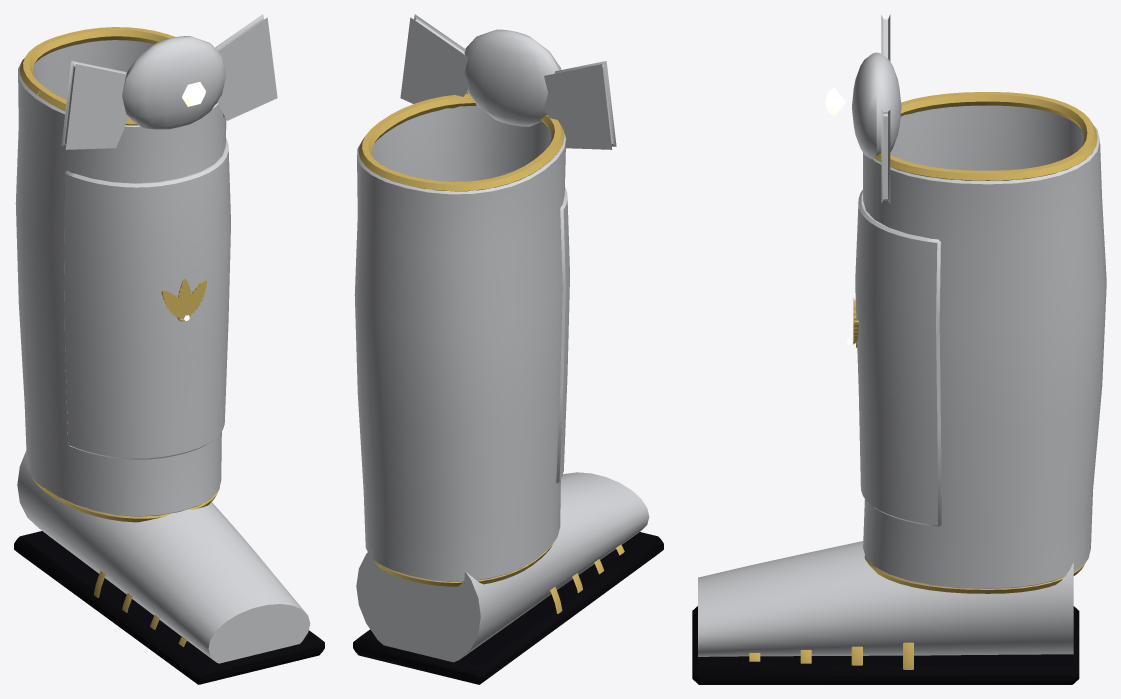
Rendered from esc_final_dawn_executor_boots_R.glb.
3 views of the same model, side by side, from view 1: azimuth 30°, elevation 25°; view 2: azimuth 150°, elevation 25°; view 3: azimuth 270°, elevation 25° (orthographic). The views are drawn at different scales.
Visible parts, largest first — view 1: esc_final_dawn_executor_boots, AT_foot_R; view 2: esc_final_dawn_executor_boots, AT_foot_R; view 3: esc_final_dawn_executor_boots, AT_foot_R.
Boxes of the visible parts, left/top/right/bottom form: esc_final_dawn_executor_boots: left=15, top=14, right=277, bottom=522; AT_foot_R: left=14, top=451, right=324, bottom=684; esc_final_dawn_executor_boots: left=354, top=14, right=616, bottom=586; AT_foot_R: left=353, top=472, right=663, bottom=684; esc_final_dawn_executor_boots: left=825, top=14, right=1106, bottom=593; AT_foot_R: left=692, top=541, right=1079, bottom=684.
Bounding box in the file's own units: 0.2244 × 0.5768 × 0.3641.
